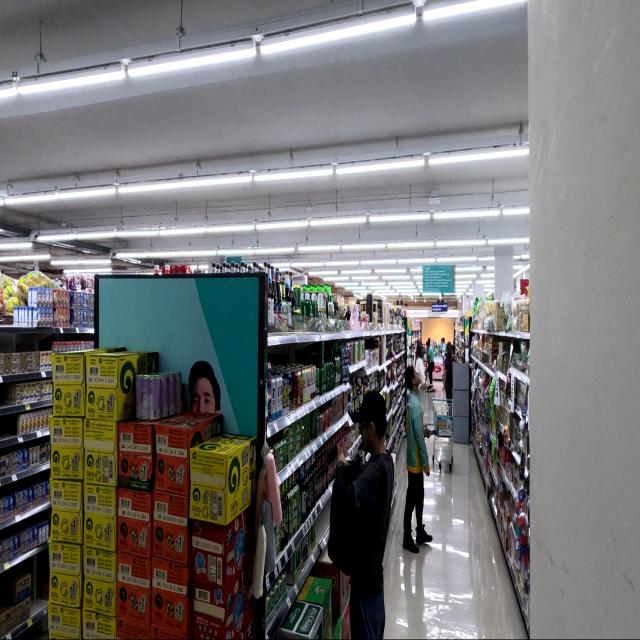shoplifting: (332, 391, 392, 640)
